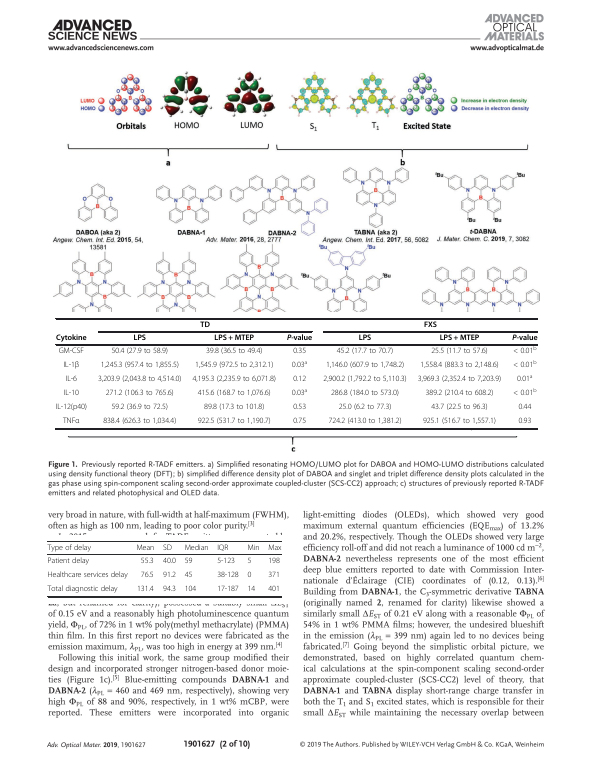borderless: (54, 317, 537, 428), (46, 540, 281, 596)
cell: (191, 375, 277, 385), (322, 375, 408, 385), (97, 375, 182, 385), (417, 375, 502, 385), (47, 571, 129, 581), (100, 361, 180, 371), (194, 361, 274, 371), (325, 361, 405, 371), (419, 361, 499, 371), (197, 389, 272, 399), (102, 417, 177, 427), (197, 417, 272, 427), (327, 417, 402, 427), (422, 417, 497, 427), (47, 585, 119, 595), (105, 389, 175, 399), (330, 389, 400, 399), (424, 389, 494, 399), (203, 403, 265, 413), (110, 347, 169, 357), (430, 347, 489, 357), (110, 403, 169, 413), (430, 403, 489, 413), (205, 347, 263, 357), (336, 347, 394, 357), (338, 403, 392, 413), (47, 557, 90, 567), (213, 334, 255, 344), (439, 334, 480, 344), (47, 544, 92, 553), (55, 403, 88, 413), (55, 334, 87, 344), (512, 346, 537, 357), (512, 360, 537, 371), (512, 388, 537, 399), (286, 334, 313, 344), (511, 334, 538, 344), (58, 347, 85, 357), (216, 571, 240, 581), (216, 585, 240, 595), (184, 544, 209, 553), (216, 557, 236, 567), (136, 585, 155, 595), (291, 360, 308, 371), (516, 374, 533, 385), (291, 388, 308, 399), (62, 361, 80, 371), (62, 417, 80, 427), (135, 544, 155, 553), (63, 389, 80, 399), (132, 334, 147, 344), (292, 347, 307, 357), (292, 375, 307, 385), (292, 403, 307, 413), (517, 403, 532, 413), (292, 417, 307, 427), (517, 417, 532, 427), (140, 557, 155, 567), (162, 557, 177, 567), (140, 571, 155, 581), (162, 571, 177, 581), (162, 585, 177, 595), (358, 334, 372, 344), (64, 375, 78, 385), (267, 557, 281, 567), (267, 571, 281, 581), (267, 585, 281, 595), (423, 321, 438, 330), (267, 544, 282, 553), (184, 585, 197, 595), (246, 544, 260, 553), (216, 544, 229, 553), (199, 321, 211, 330), (246, 585, 256, 595), (162, 544, 173, 553), (184, 557, 193, 567), (184, 571, 193, 581), (246, 557, 252, 567), (246, 571, 252, 581)
